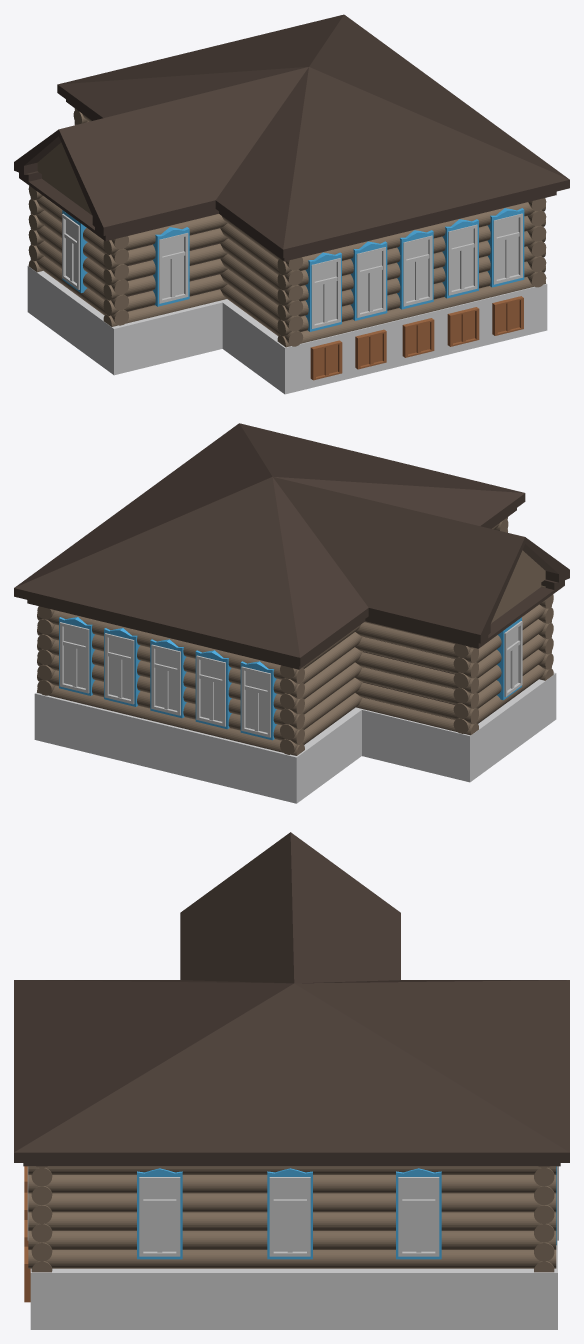
File: khamitkov.glb
3 renders of one model, top to bottom at view 1: azimuth 30°, elevation 25°; view 2: azimuth 150°, elevation 25°; view 3: azimuth 270°, elevation 25°, orthographic. The views are drawn at different scales.
Parts seen in each view (by area): view 1: Cube.002, Cylinder.032, Cube.003, Cube.022, Cube.038, Cube.031; view 2: Cube.002, Cylinder.032, Cube.003, Cube.022, Cube.031; view 3: Cube.002, Cylinder.032, Cube.003, Cube.022, Cube.031, Cube.038.
Part boxes in pixels (<box>): Cube.002: <box>14,14,569,261</box>; Cylinder.032: <box>28,108,546,347</box>; Cube.003: <box>27,265,547,394</box>; Cube.022: <box>62,213,522,328</box>; Cube.038: <box>310,296,523,380</box>; Cube.031: <box>62,208,524,331</box>; Cube.002: <box>14,423,569,669</box>; Cylinder.032: <box>37,517,553,755</box>; Cube.003: <box>34,672,556,803</box>; Cube.022: <box>59,621,522,737</box>; Cube.031: <box>59,617,521,740</box>; Cube.002: <box>14,832,569,1166</box>; Cylinder.032: <box>28,1166,556,1272</box>; Cube.003: <box>30,1240,557,1329</box>; Cube.022: <box>27,1166,558,1256</box>; Cube.031: <box>137,1166,556,1259</box>; Cube.038: <box>24,1166,30,1302</box>.
Bounding box in the file's own units: 1.8 × 0.9379 × 1.77.
